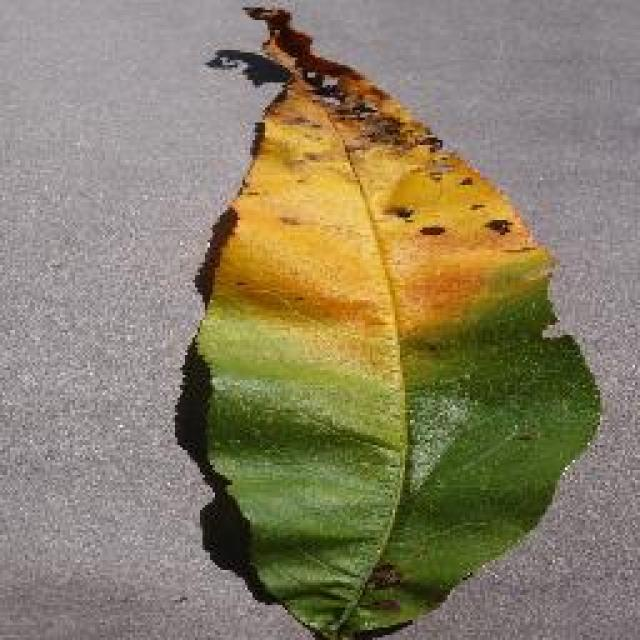Peach_Bacterial_Spot: (185, 20, 503, 227)
